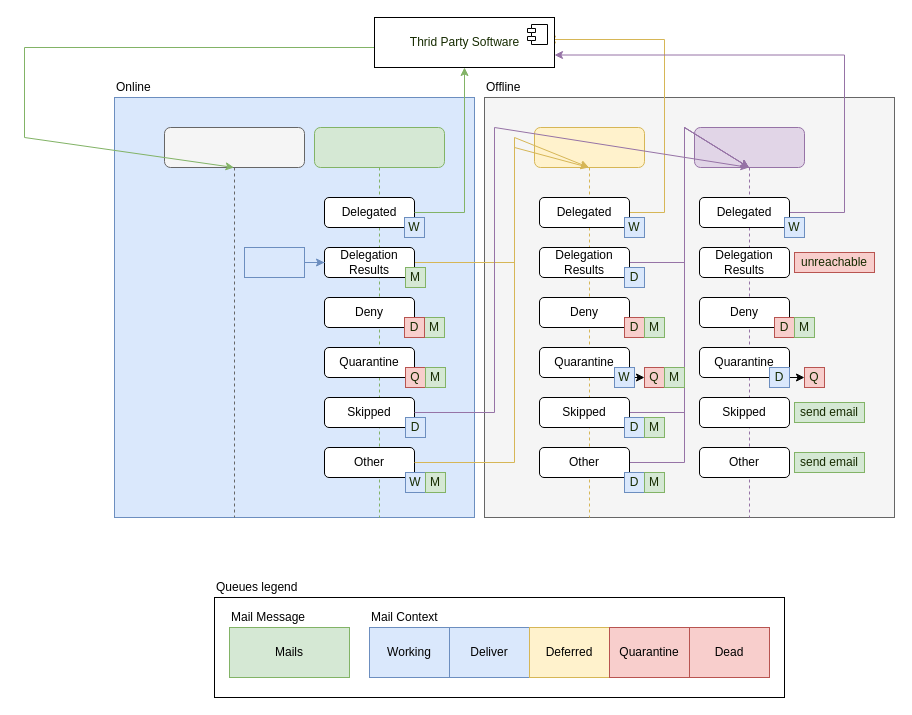
This 912x715 diagram has some shape labels left out. Here are the shapes that lost their labels. From the top down, the box of each, then its label:
(244, 246, 304, 278): (W) Old Context
(164, 126, 304, 518): Receiver
(314, 126, 444, 518): PreQ
(534, 126, 644, 518): PostQ
(694, 126, 804, 518): Delivery
